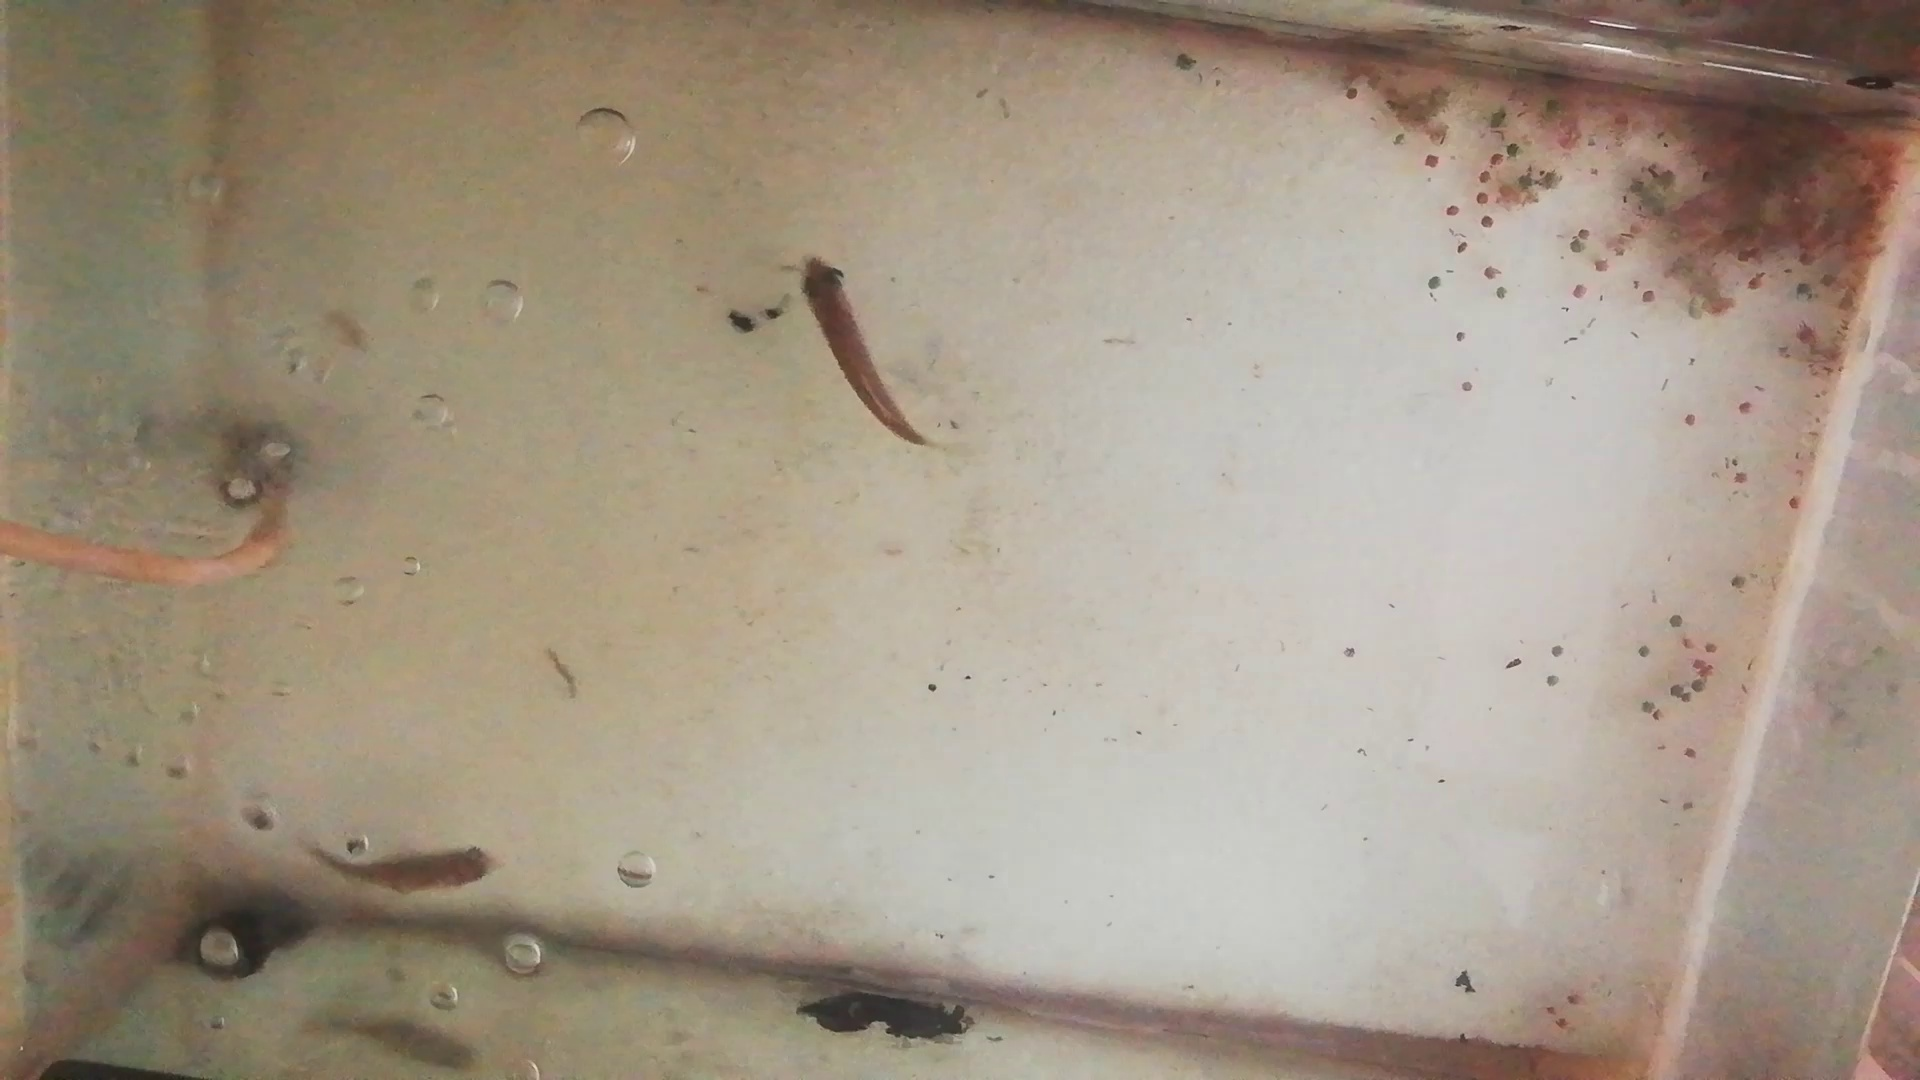fish: (799, 255, 922, 448), (314, 844, 502, 891)
